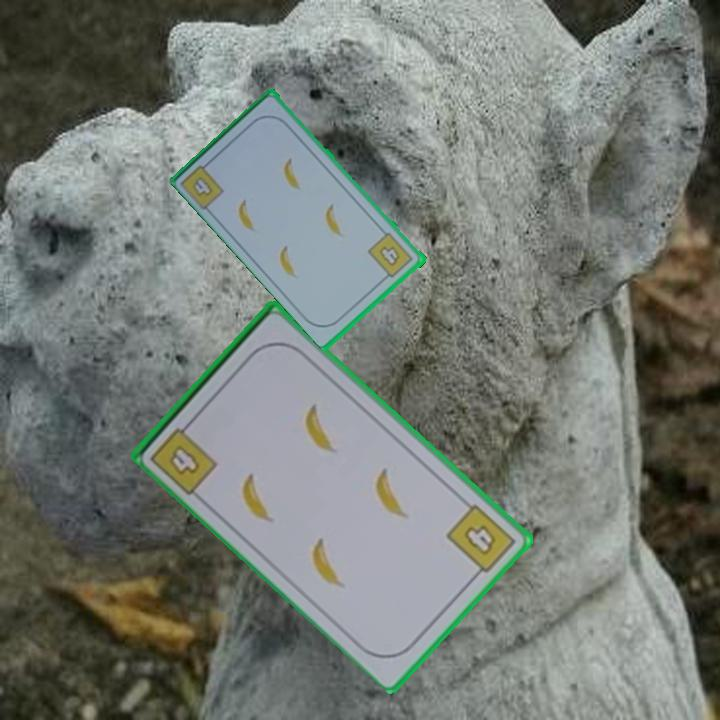4b: (442, 499, 519, 582), (146, 415, 220, 498), (178, 156, 228, 212), (365, 229, 416, 283)
